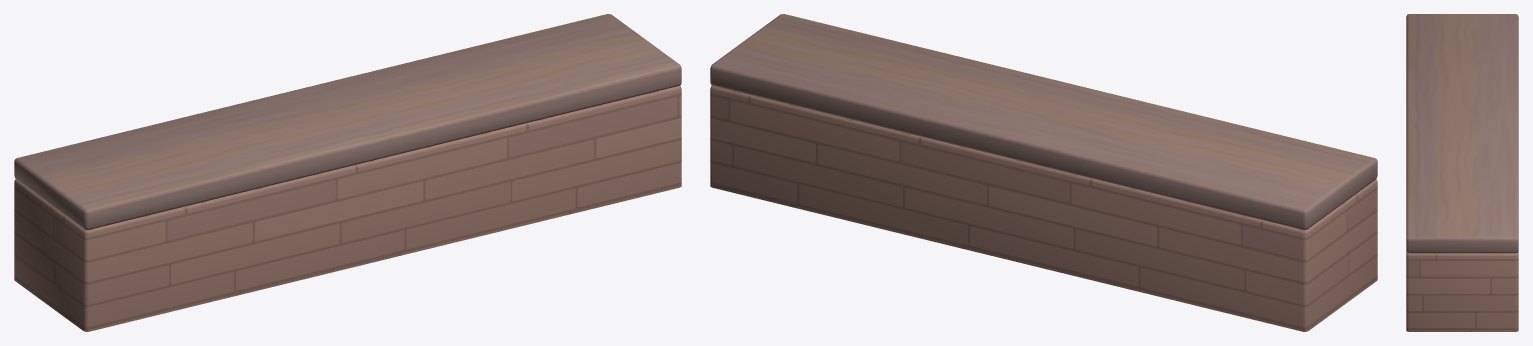
File: Florist_Table_02.fbx
3 renders of one model, left to right at view 1: azimuth 30°, elevation 25°; view 2: azimuth 150°, elevation 25°; view 3: azimuth 270°, elevation 25°, orthographic. The views are drawn at different scales.
Visible parts, largest first — view 1: Florist_Table_02; view 2: Florist_Table_02; view 3: Florist_Table_02.
Part boxes in pixels (bbox=[...]): Florist_Table_02: bbox=[14, 14, 681, 331]; Florist_Table_02: bbox=[710, 14, 1377, 331]; Florist_Table_02: bbox=[1406, 14, 1518, 331].
Size of the model in its own units: 700 by 136 by 148.
